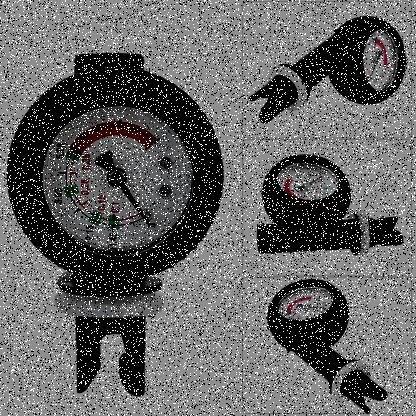needle: (119, 184, 152, 227), (309, 176, 324, 185)
